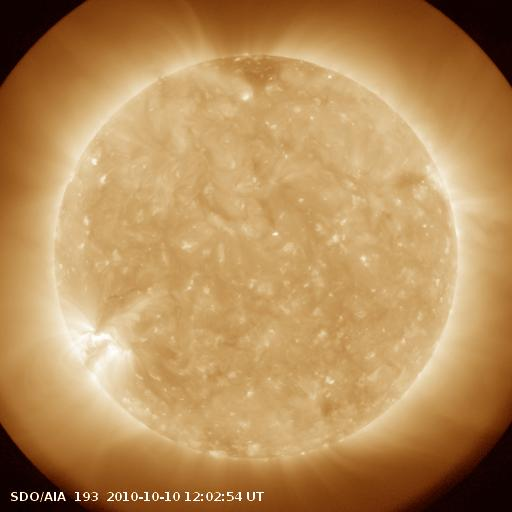coronal_hole: (215, 49, 296, 96)
